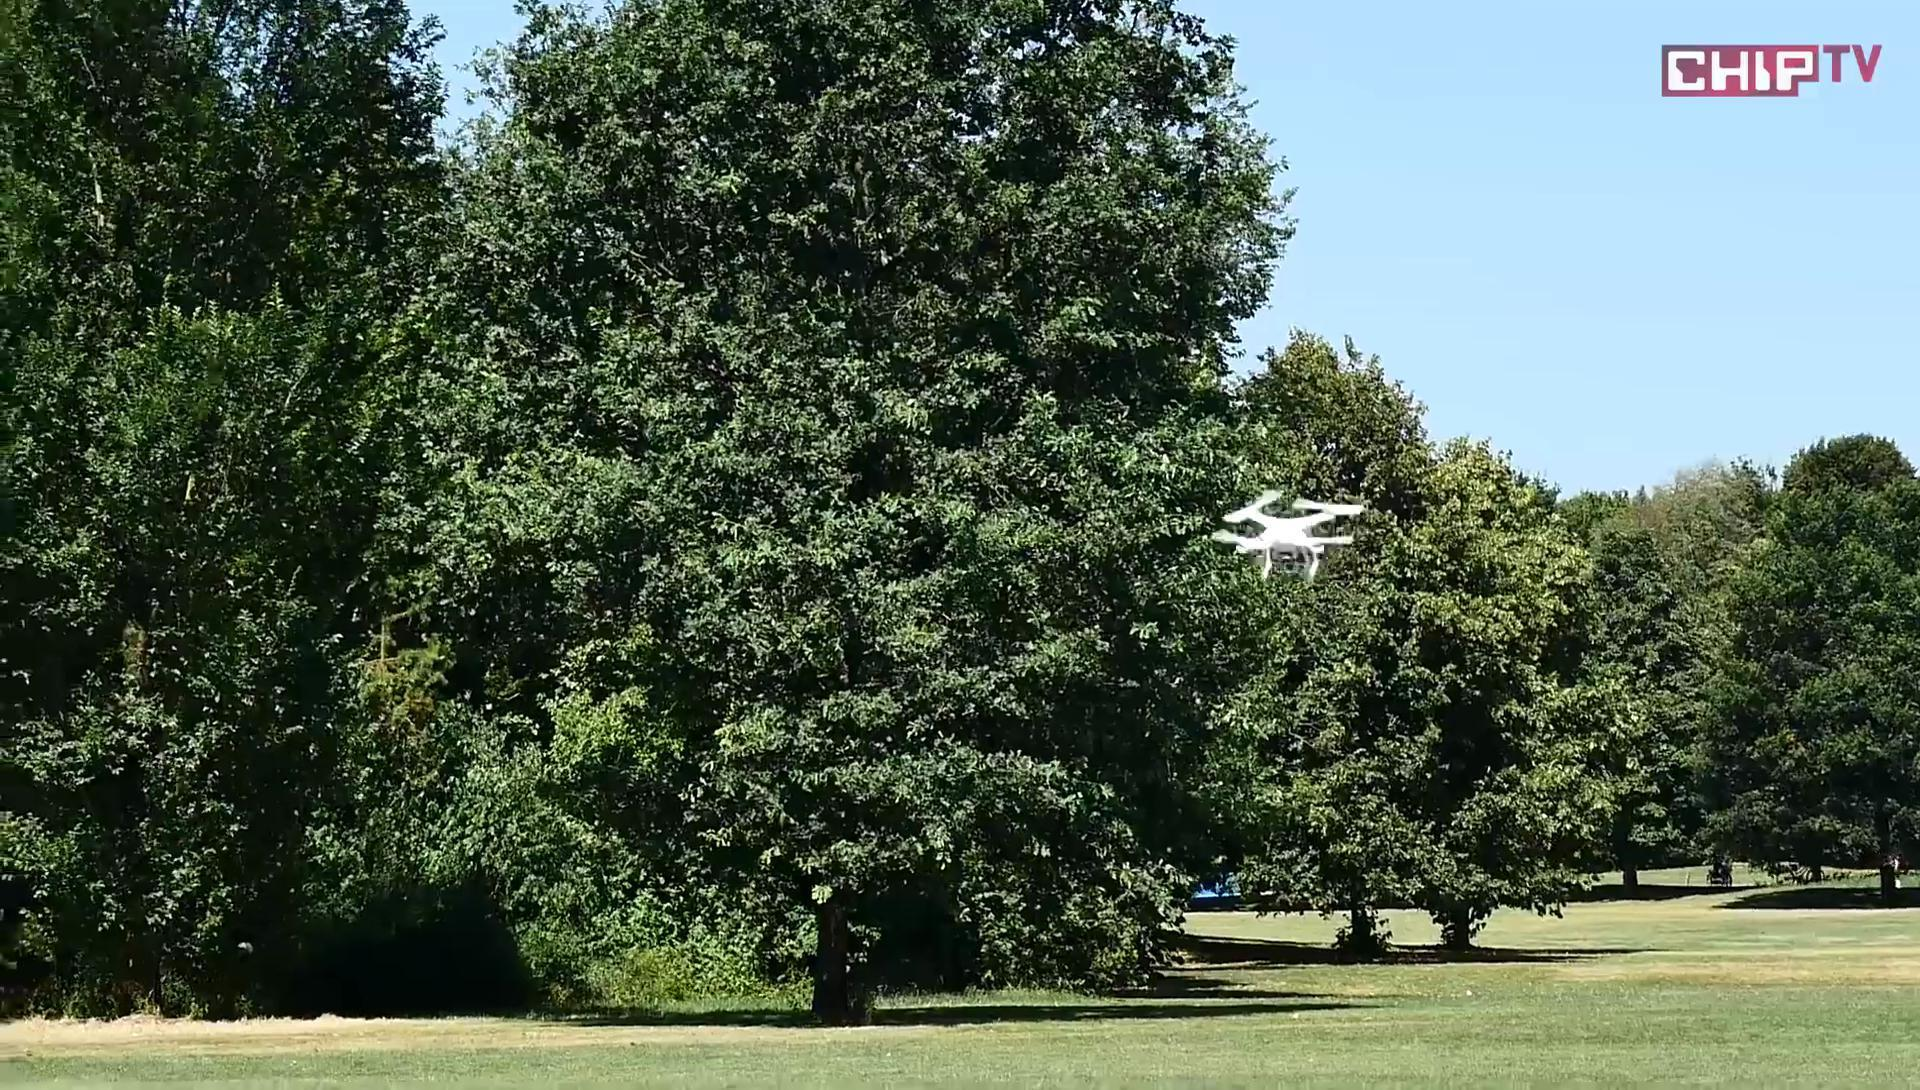drone: (1204, 482, 1367, 579)
